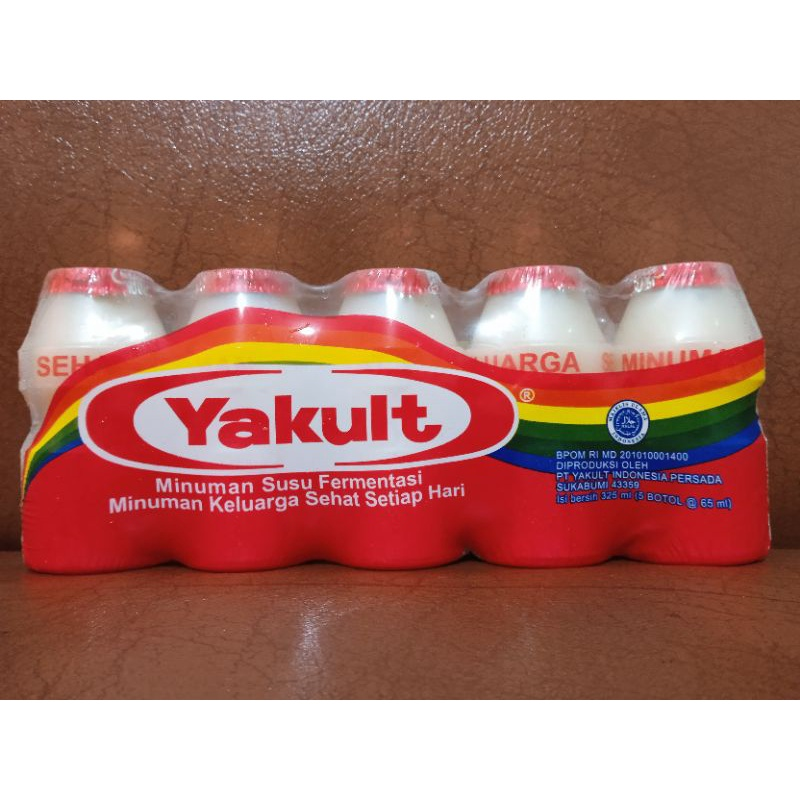Yakult (325ml): (15, 255, 778, 578)
